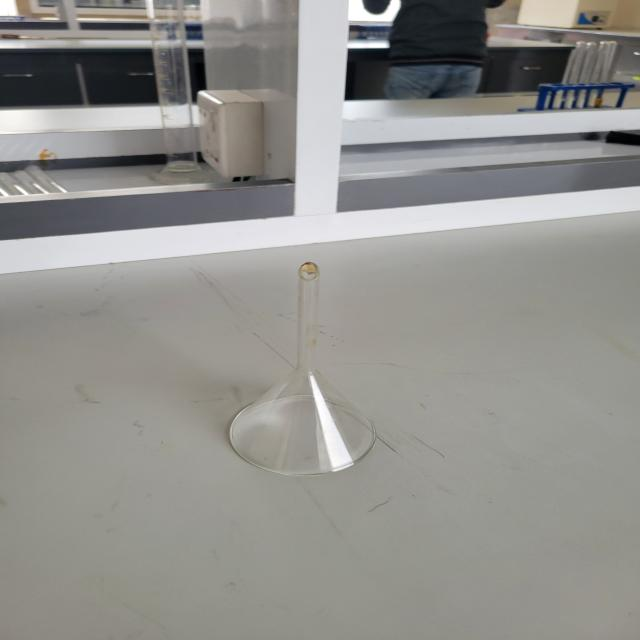Funnel: (172, 230, 436, 504)
